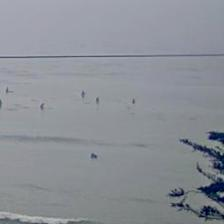surfer: (90, 153, 98, 160), (80, 90, 86, 98), (5, 88, 12, 94), (39, 102, 44, 110), (95, 97, 100, 105), (0, 99, 4, 108), (132, 98, 136, 104)
